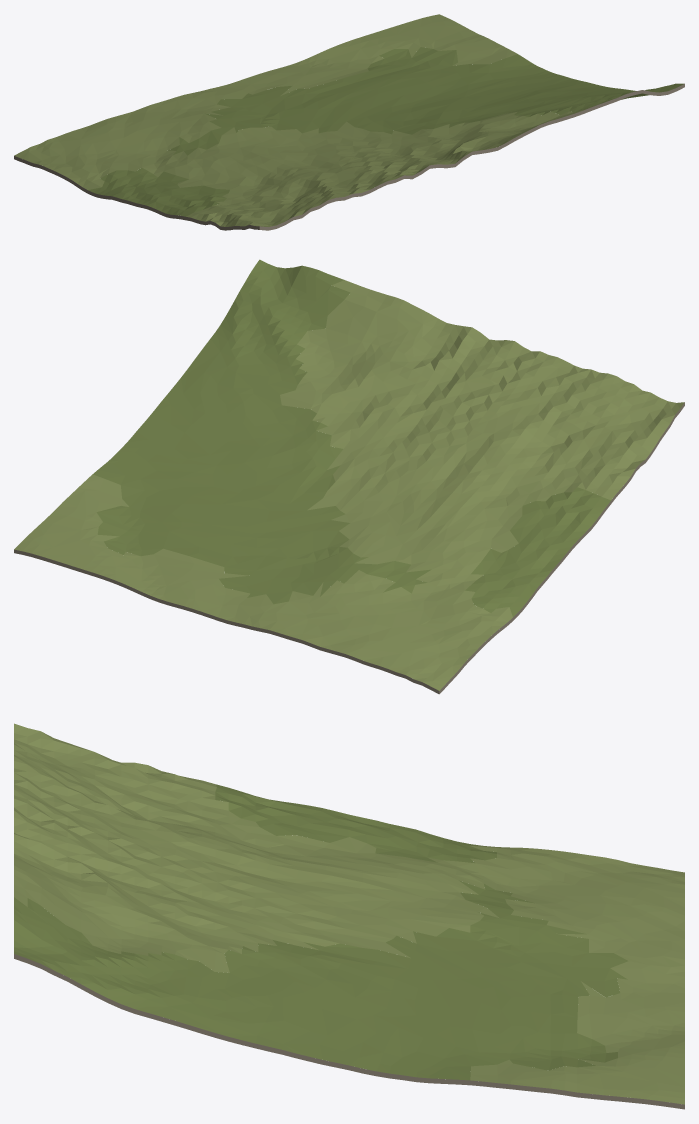
The model's file is parca_+7_-4-uzak.glb.
The picture shows the model from 3 angles, top to bottom: view 1: azimuth 30°, elevation 25°; view 2: azimuth 150°, elevation 25°; view 3: azimuth 270°, elevation 25°; orthographic projection. The views are drawn at different scales.
Parts seen in each view (by area): view 1: parca_+7_-4_arazi_uzak; view 2: parca_+7_-4_arazi_uzak; view 3: parca_+7_-4_arazi_uzak.
Boxes of the visible parts, <box> form: parca_+7_-4_arazi_uzak: <box>14,14,684,230</box>; parca_+7_-4_arazi_uzak: <box>14,259,684,694</box>; parca_+7_-4_arazi_uzak: <box>14,723,684,1109</box>.
Size of the model in its own units: 1000 by 350 by 1000.
